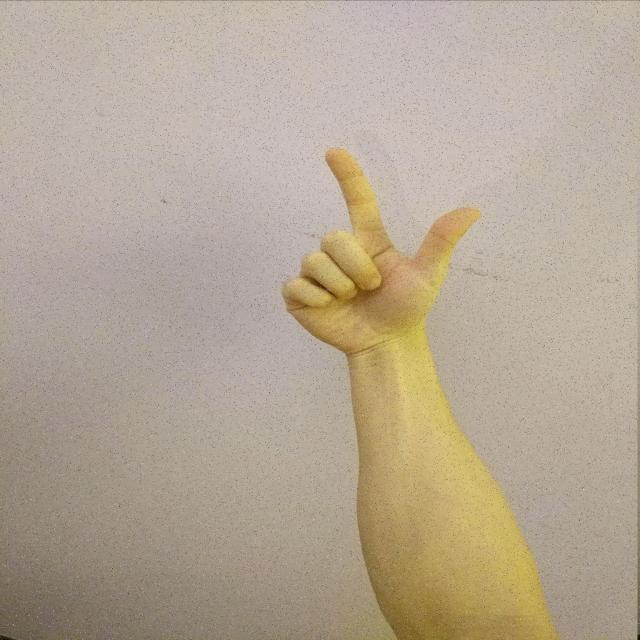L: (275, 143, 487, 356)
